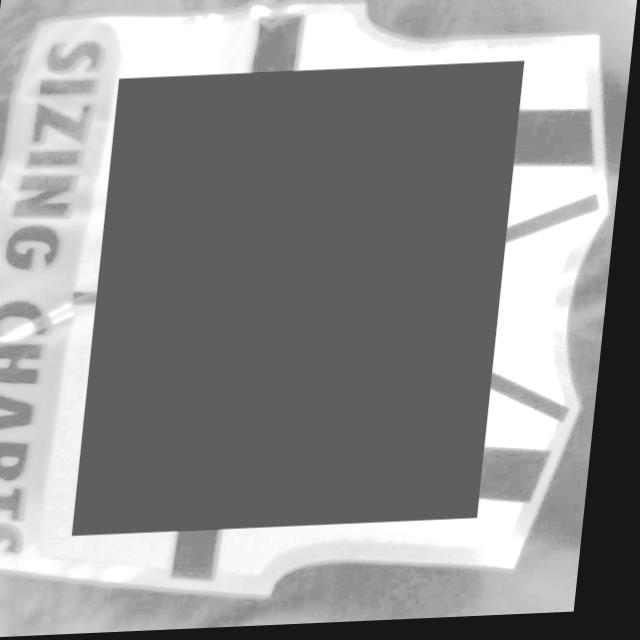qr_code: (83, 65, 525, 538)
